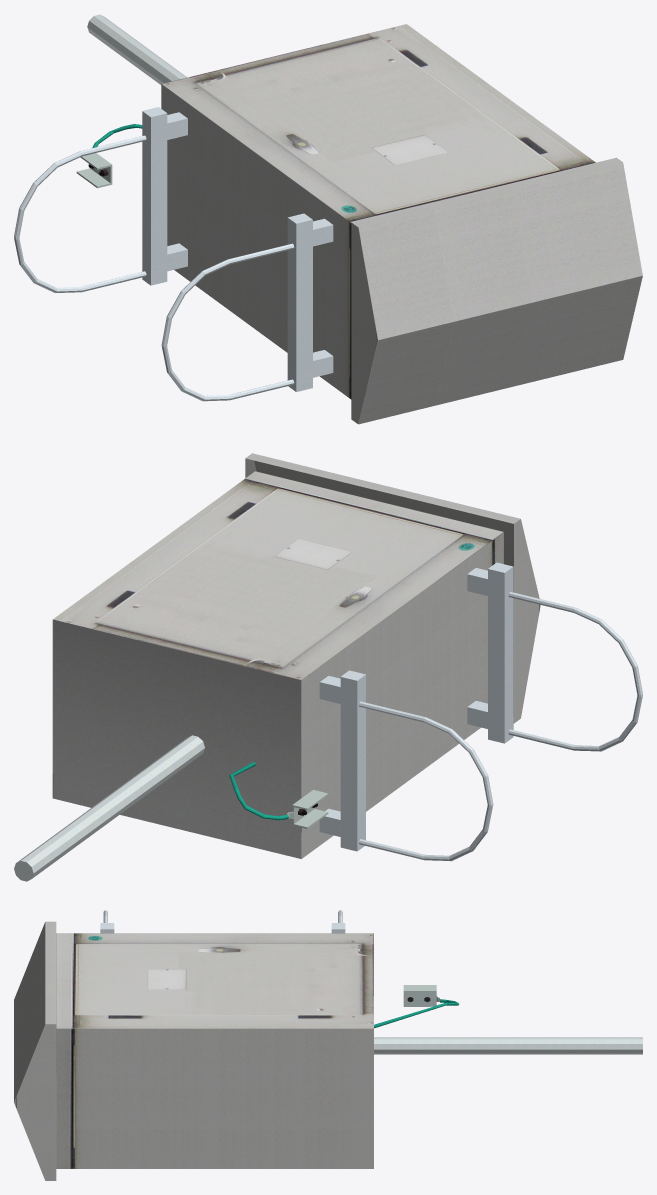
Rendered from xz001-geode.glb.
The picture shows the model from 3 angles, top to bottom: view 1: azimuth 30°, elevation 25°; view 2: azimuth 150°, elevation 25°; view 3: azimuth 270°, elevation 25°; orthographic projection. The views are drawn at different scales.
Parts seen in each view (by area): view 1: Node; view 2: Node; view 3: Node.
Part boxes in pixels (bbox=[...]): Node: bbox=[14, 14, 642, 424]; Node: bbox=[14, 453, 642, 881]; Node: bbox=[14, 910, 642, 1180].
Size of the model in its own units: 1.01 by 0.4487 by 1.63.
Materials: 7 (7 with a texture image).
